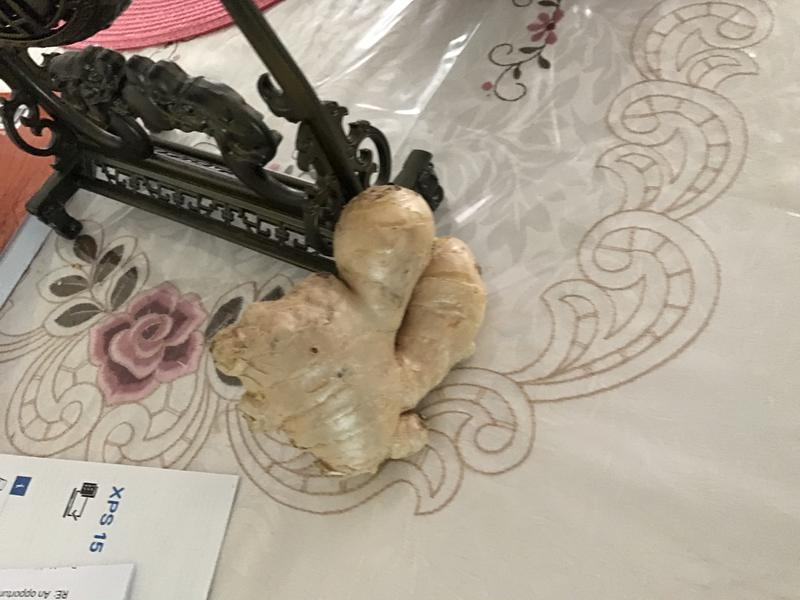ginger: (207, 175, 493, 488)
